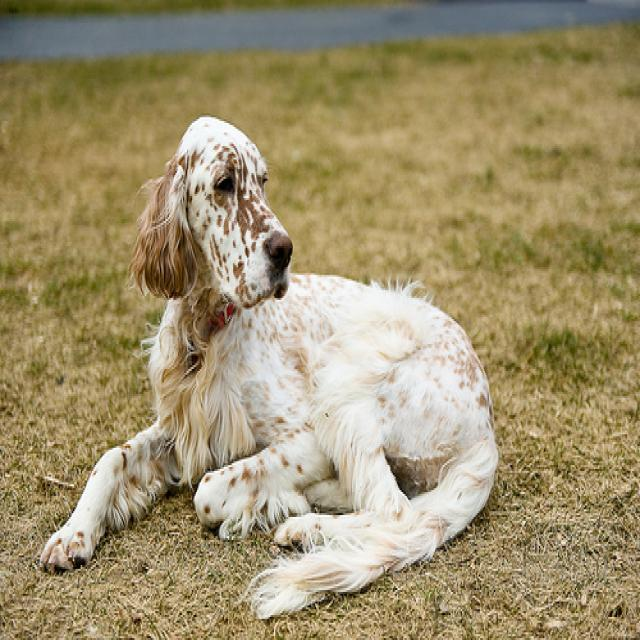dog-english_setter: (29, 104, 504, 632)
